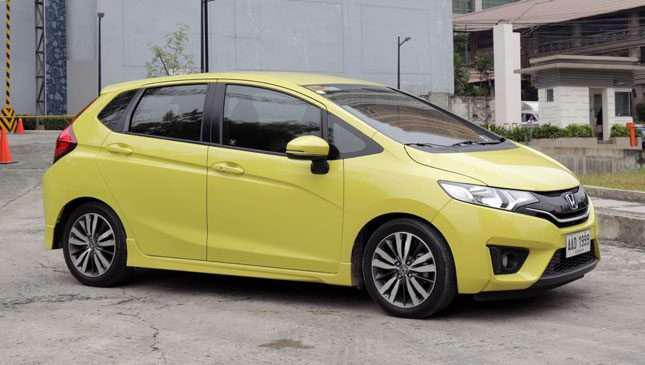Hatchback: (30, 67, 610, 317)
